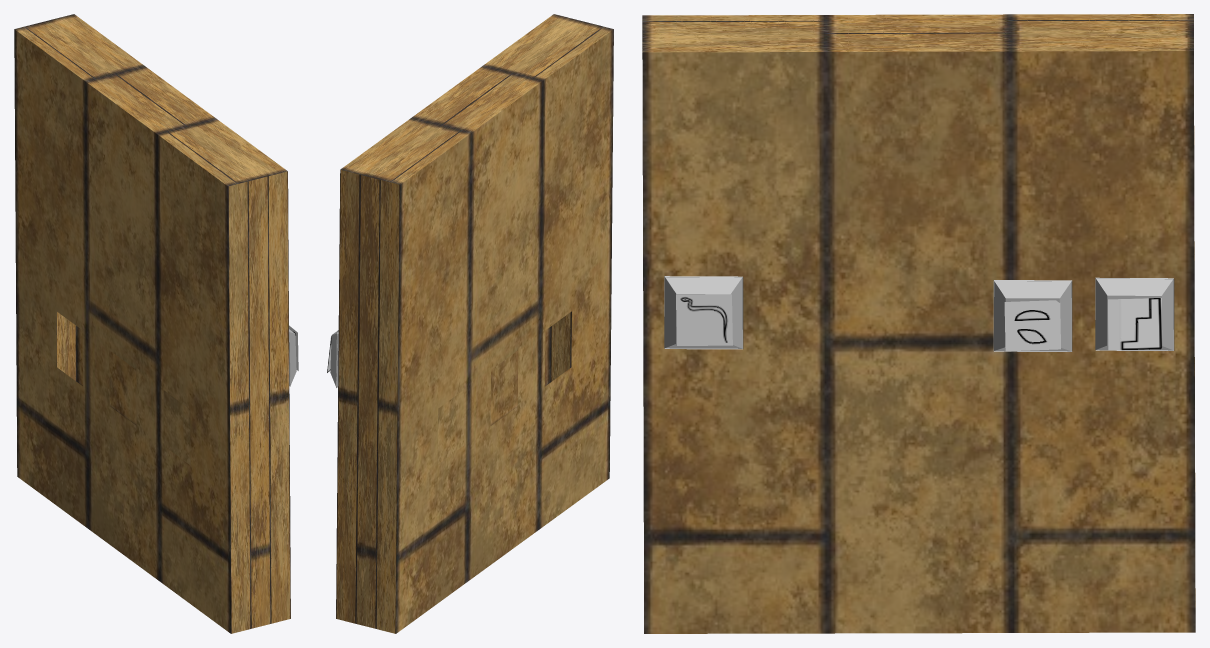
File: puzz.fbx
The picture shows the model from 3 angles, left to right: view 1: azimuth 30°, elevation 25°; view 2: azimuth 150°, elevation 25°; view 3: azimuth 270°, elevation 25°; orthographic projection. The views are drawn at different scales.
Visible parts, largest first — view 1: Cube, Cube.012; view 2: Cube, Cube.011; view 3: Cube, Cube.012, Cube.011, Cube.014.
Part boxes in pixels (left/top/right/bottom): Cube: left=14, top=14, right=290, bottom=633; Cube.012: left=289, top=325, right=298, bottom=386; Cube: left=336, top=14, right=613, bottom=633; Cube.011: left=327, top=330, right=338, bottom=387; Cube: left=642, top=14, right=1195, bottom=633; Cube.012: left=664, top=276, right=743, bottom=349; Cube.011: left=1095, top=277, right=1174, bottom=350; Cube.014: left=993, top=280, right=1072, bottom=351.
Size of the model in its own units: 262 by 1263 by 1090.
